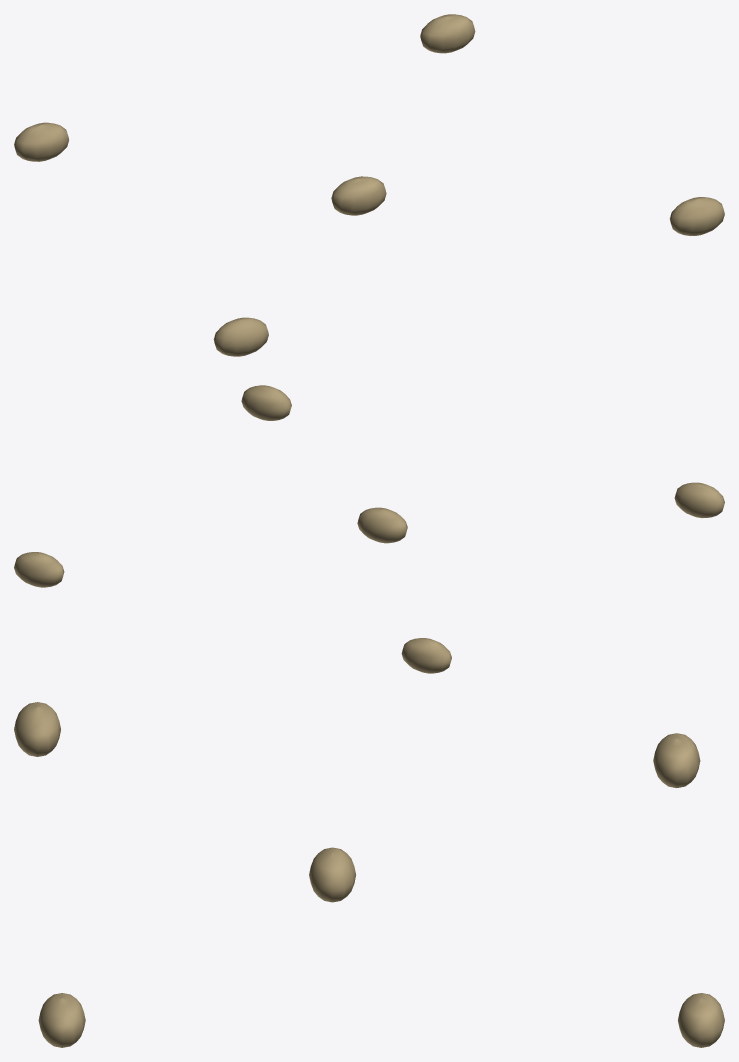
File: strawberry_seed.glb
The picture shows the model from 3 angles, top to bottom: view 1: azimuth 30°, elevation 25°; view 2: azimuth 150°, elevation 25°; view 3: azimuth 270°, elevation 25°; orthographic projection. The views are drawn at different scales.
Visible parts, largest first — view 1: seeds; view 2: seeds; view 3: seeds.
Boxes of the visible parts, box(x1,y1,x2,y2) form: seeds: box(14, 14, 724, 356); seeds: box(14, 385, 724, 673); seeds: box(14, 702, 724, 1047).
Bounding box in the file's own units: 0.312 × 0.02 × 0.2892.
